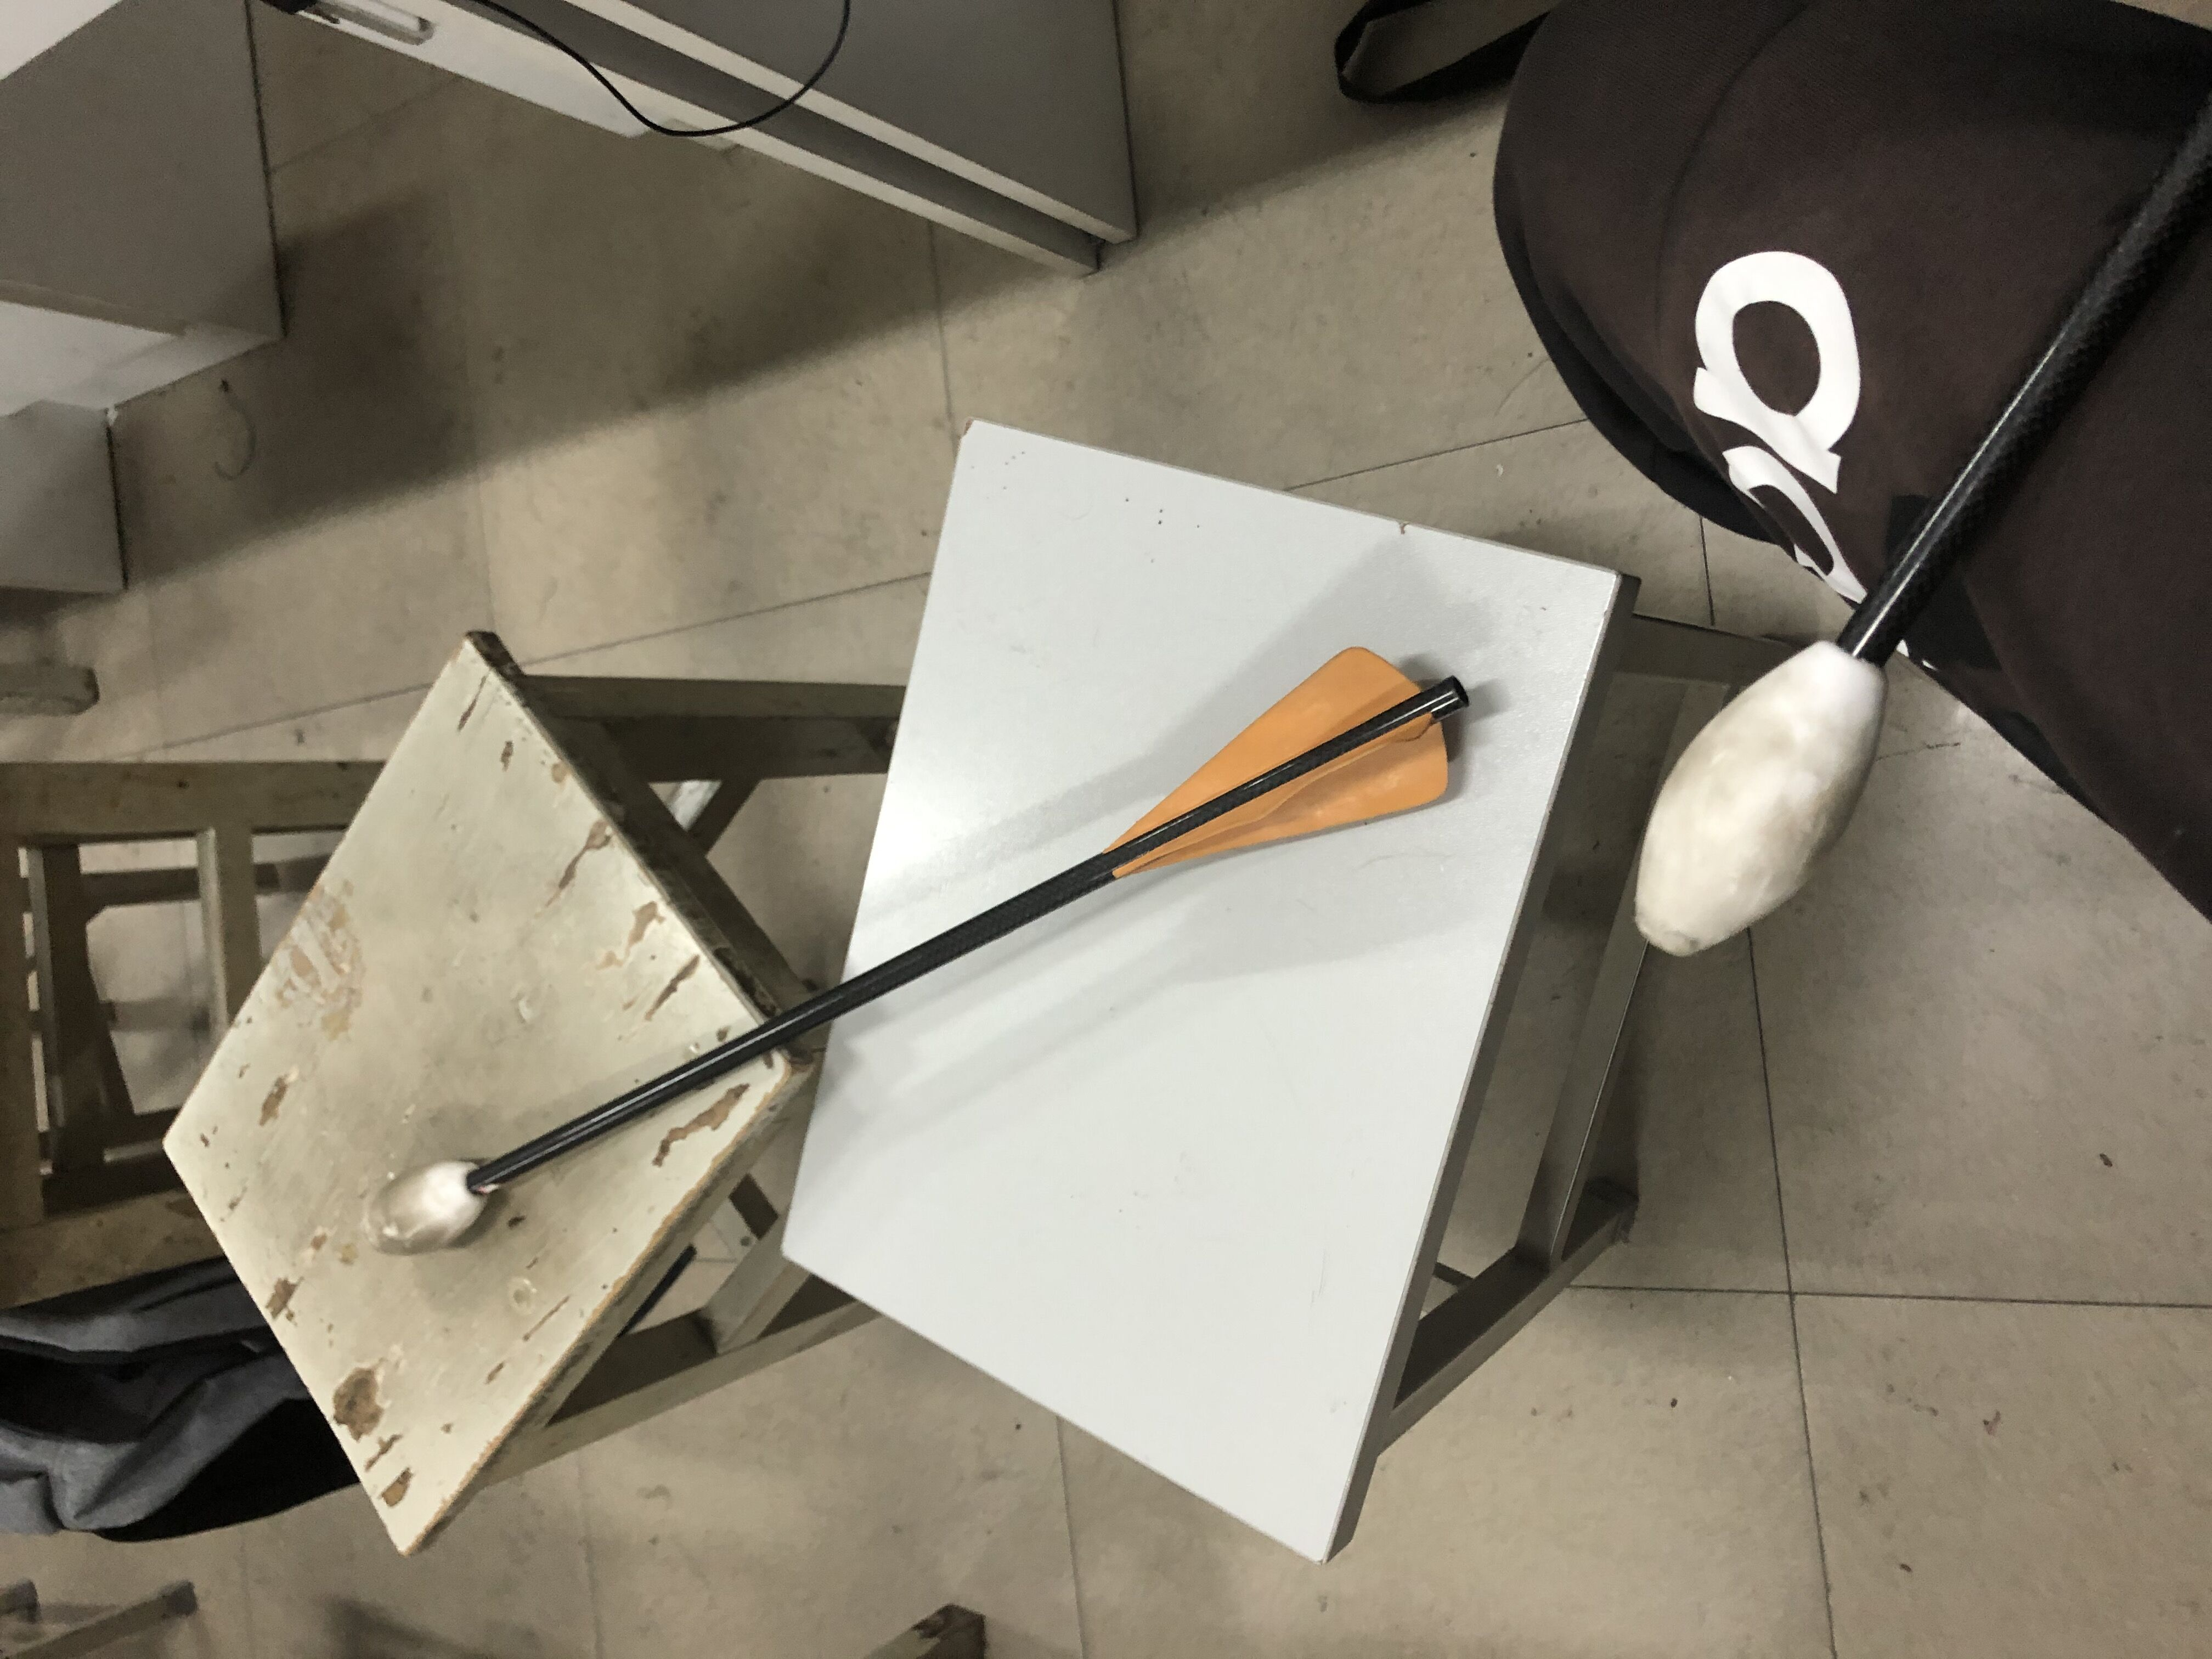arrow: (364, 647, 1467, 1253), (1629, 99, 2210, 958)
arrowFront: (1627, 634, 1888, 957), (364, 1157, 491, 1253)
